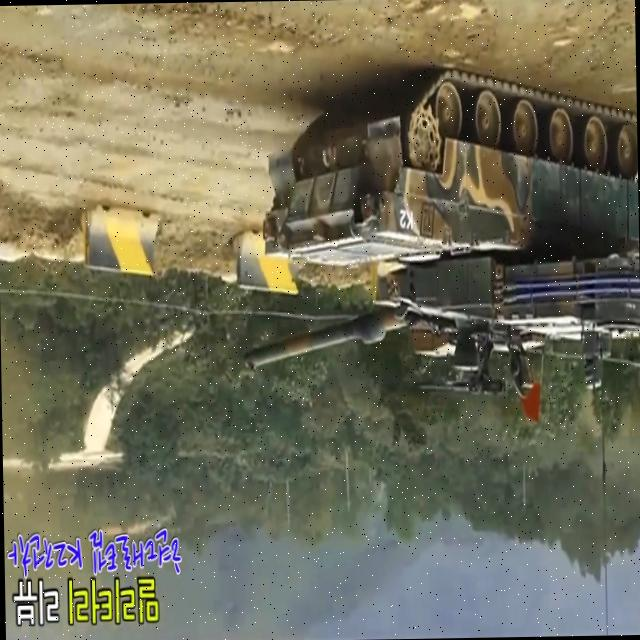korea tank: (237, 67, 640, 406)
